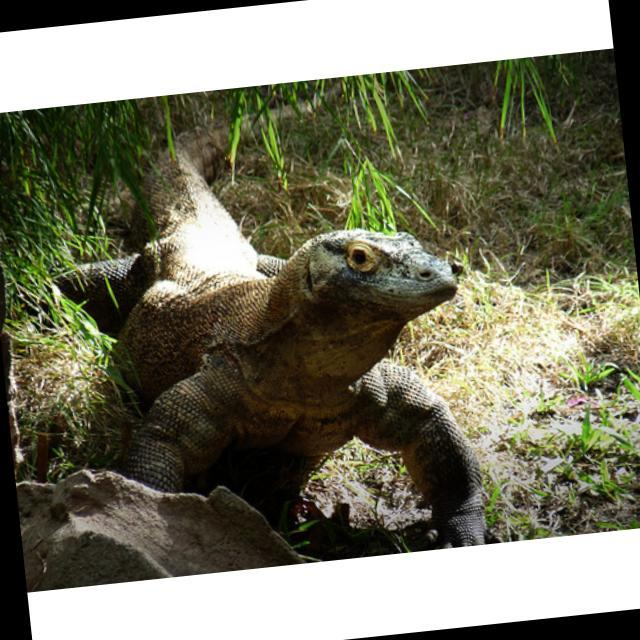KomodoDragon: (38, 67, 489, 584)
